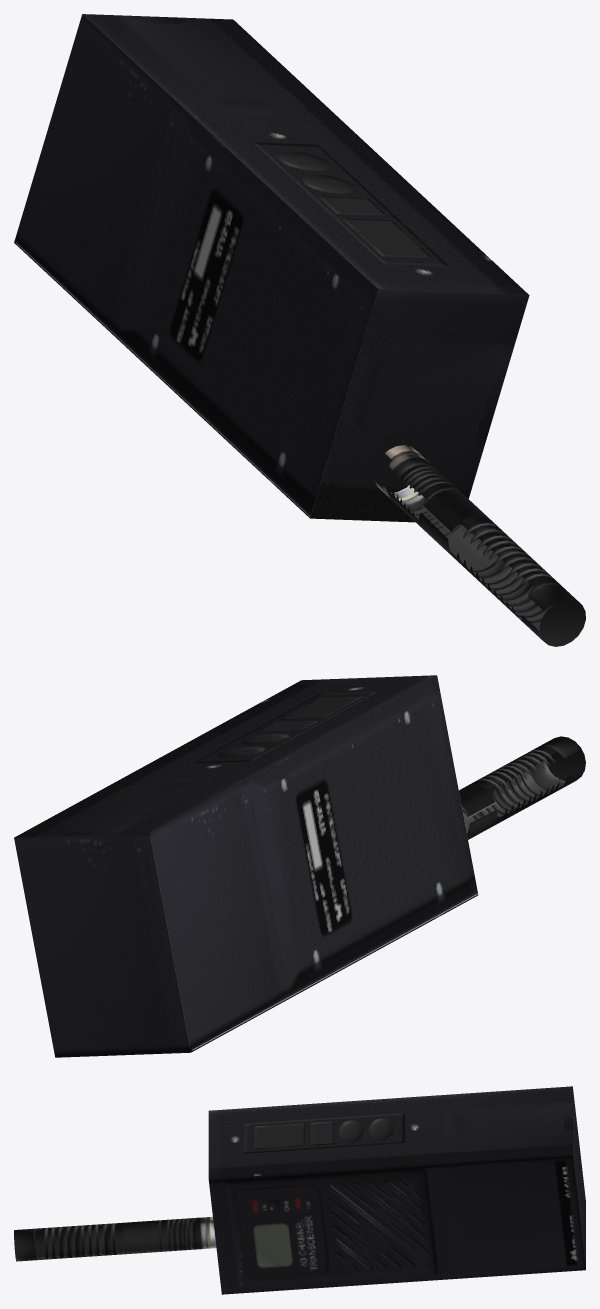
The model's file is DuiJiangJi.FBX.
3 renders of one model, top to bottom at view 1: azimuth 30°, elevation 25°; view 2: azimuth 150°, elevation 25°; view 3: azimuth 270°, elevation 25°, orthographic. The views are drawn at different scales.
Parts seen in each view (by area): view 1: Box01, Cylinder01; view 2: Box01, Cylinder01; view 3: Box01, Cylinder01.
Part boxes in pixels (x1,y1,x2,y2): Box01: (14,14,529,522); Cylinder01: (375,445,585,646); Box01: (14,675,478,1057); Cylinder01: (459,736,585,839); Box01: (208,1086,585,1294); Cylinder01: (14,1216,216,1261).
Bounding box in the file's own units: 0.0531 × 0.072 × 0.202.
2 materials, 2 textured.
